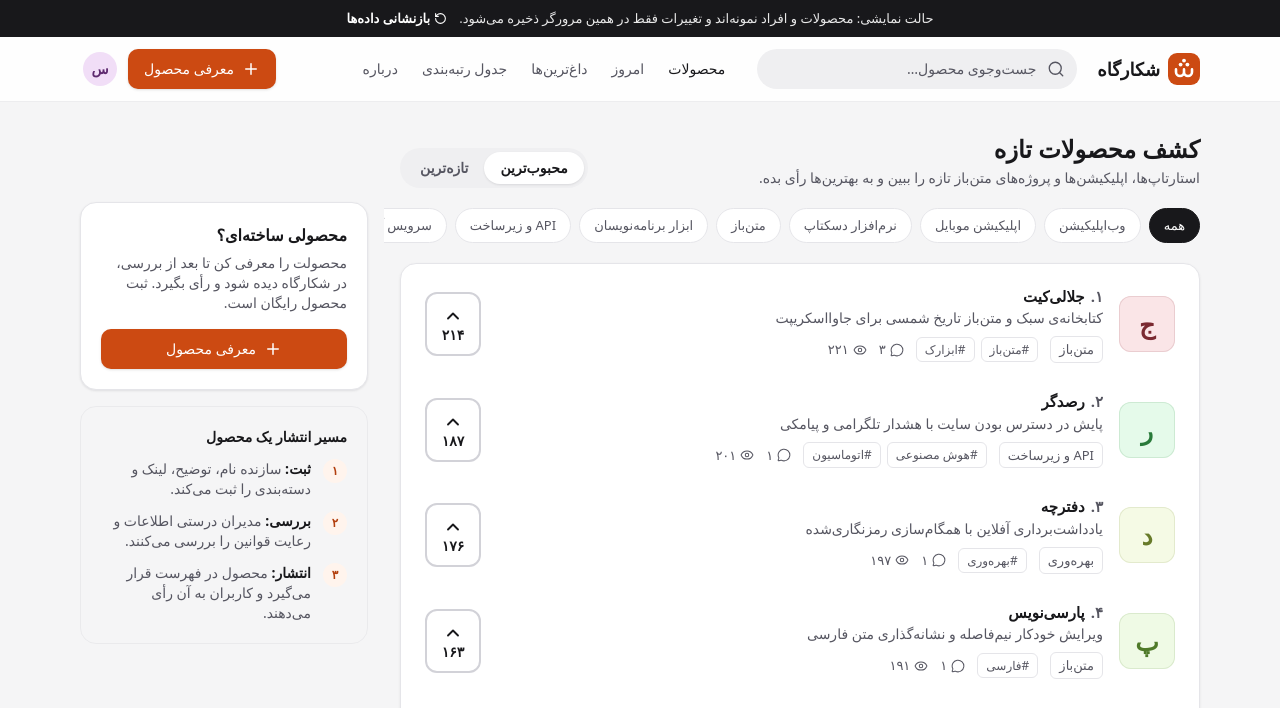
Test: voting › toggles a vote for signed-in users
Click the button named "رأی به جلالی‌کیت" at (453, 324), box [425, 292, 481, 356]
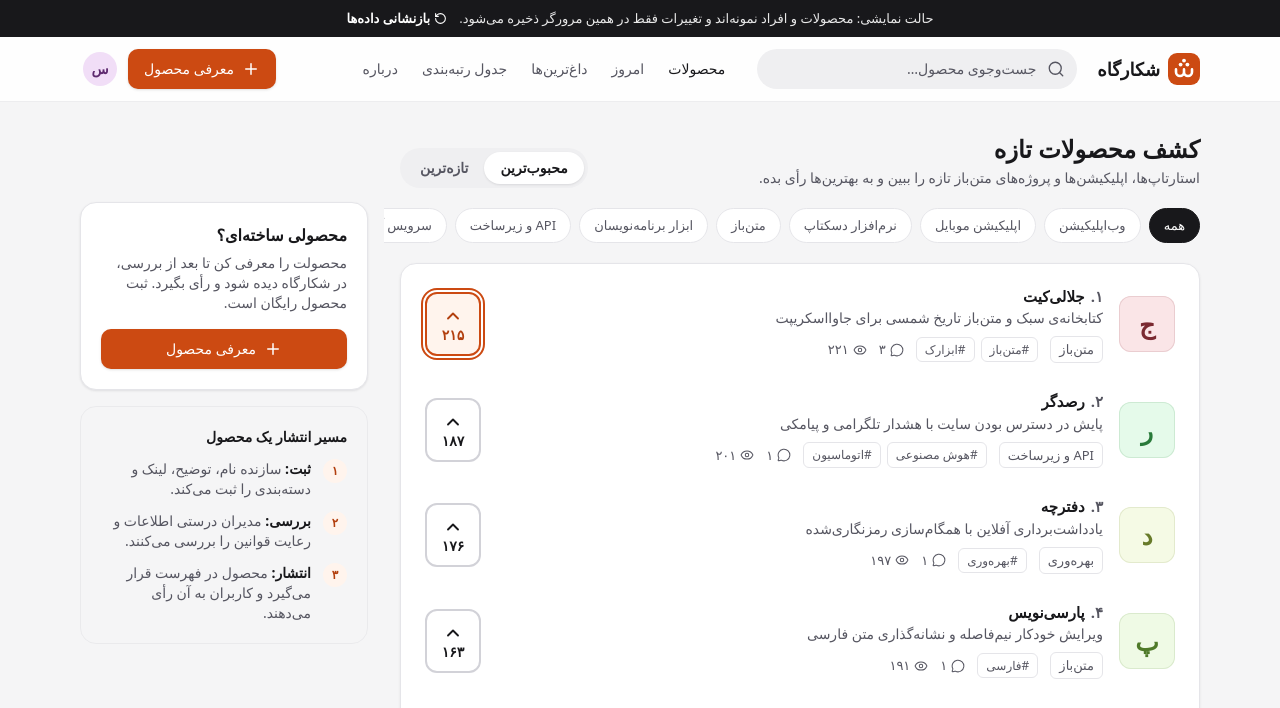
Expected: the button named "پس گرفتن رأی از جلالی‌کیت" reads "۲۱۵"
Click the button named "پس گرفتن رأی از جلالی‌کیت" at (453, 324), box [425, 292, 481, 356]
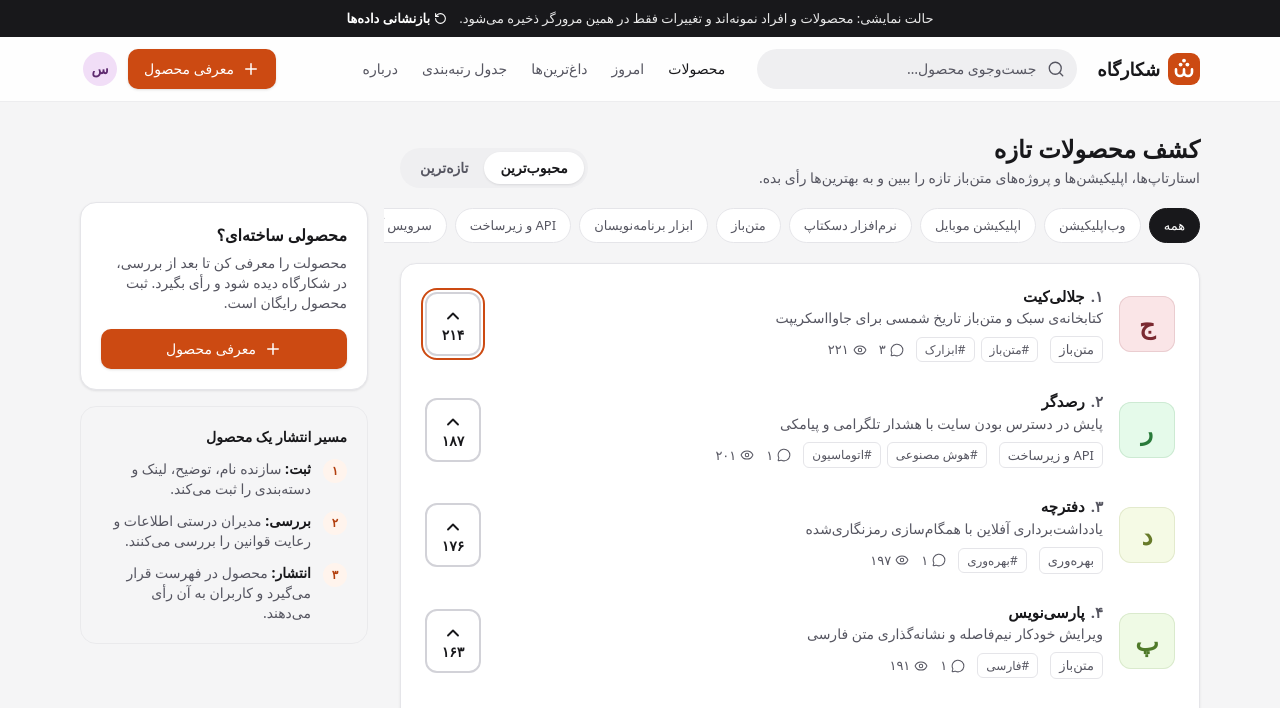
Expected: the button named "رأی به جلالی‌کیت" reads "۲۱۴", [425, 292, 481, 356]
